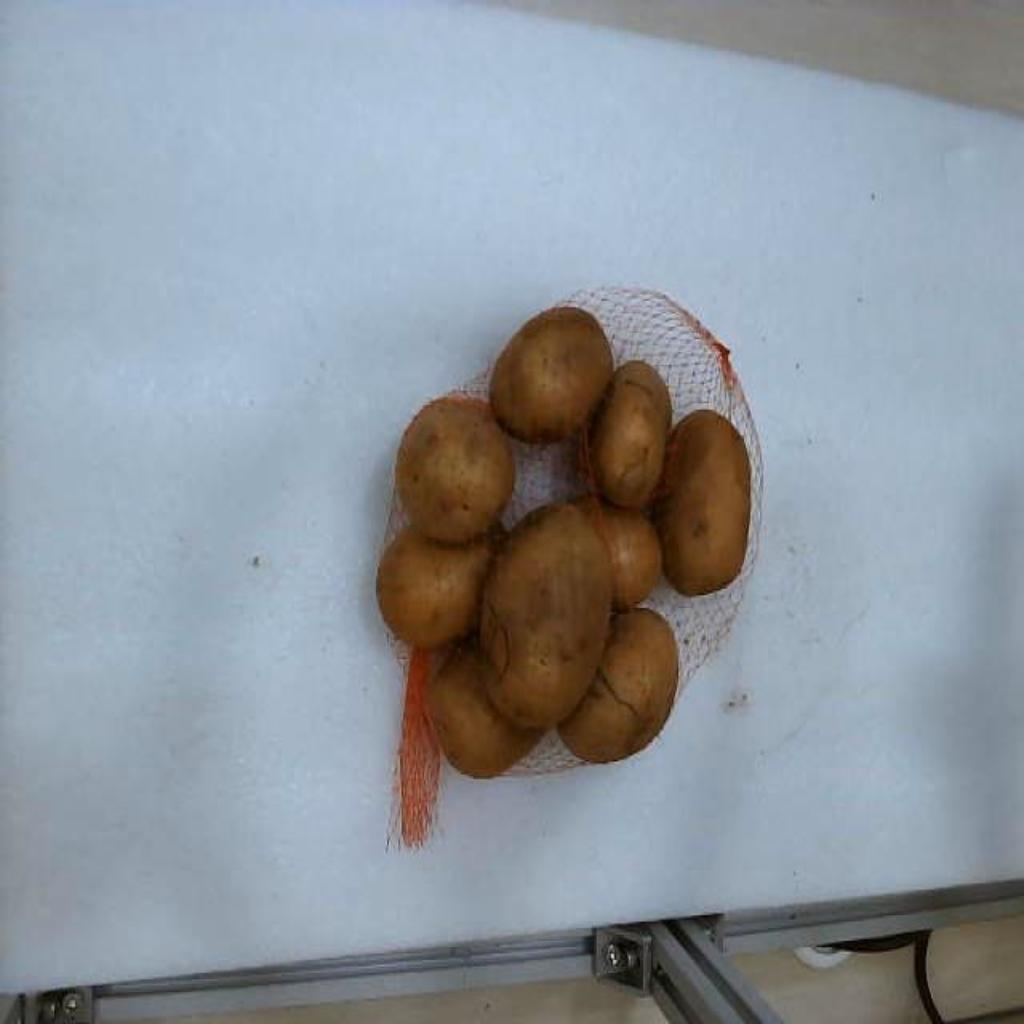potato: (480, 501, 612, 728), (558, 613, 678, 761), (654, 411, 750, 595), (396, 395, 514, 543), (490, 307, 612, 441), (428, 637, 542, 779), (376, 528, 494, 648), (590, 360, 672, 505), (576, 499, 662, 609)
